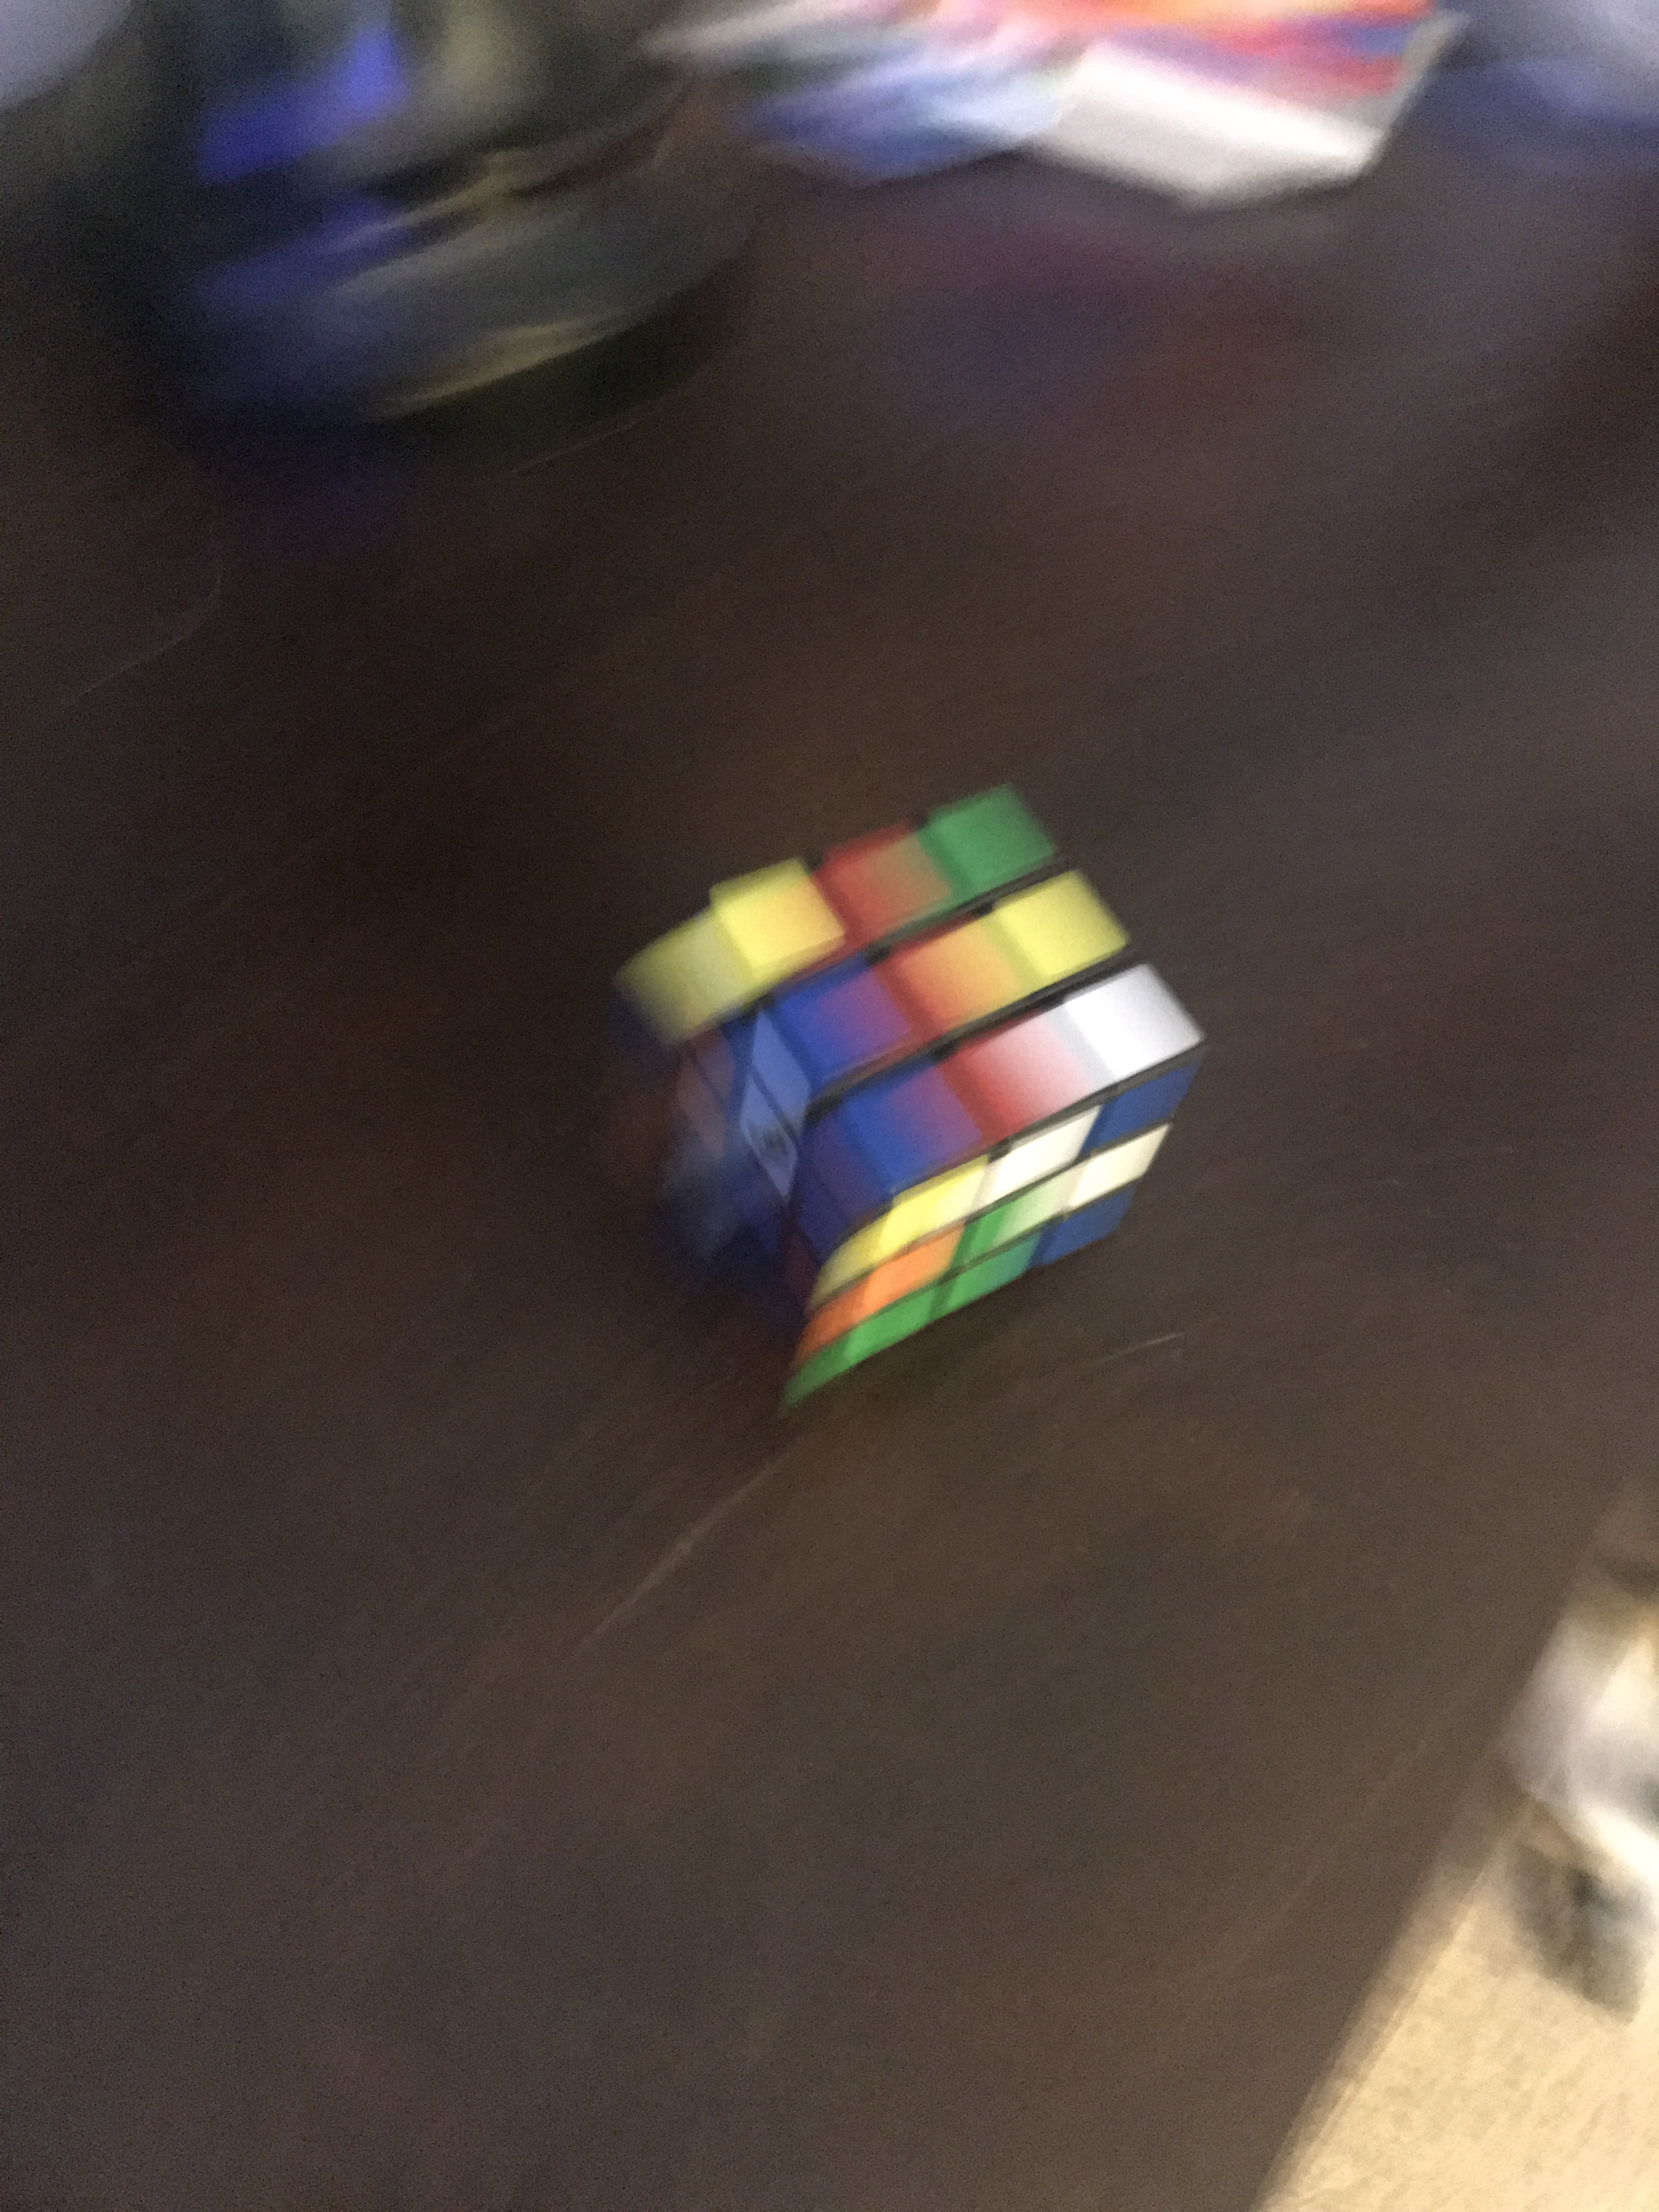rubiks: (653, 784, 1171, 1409)
